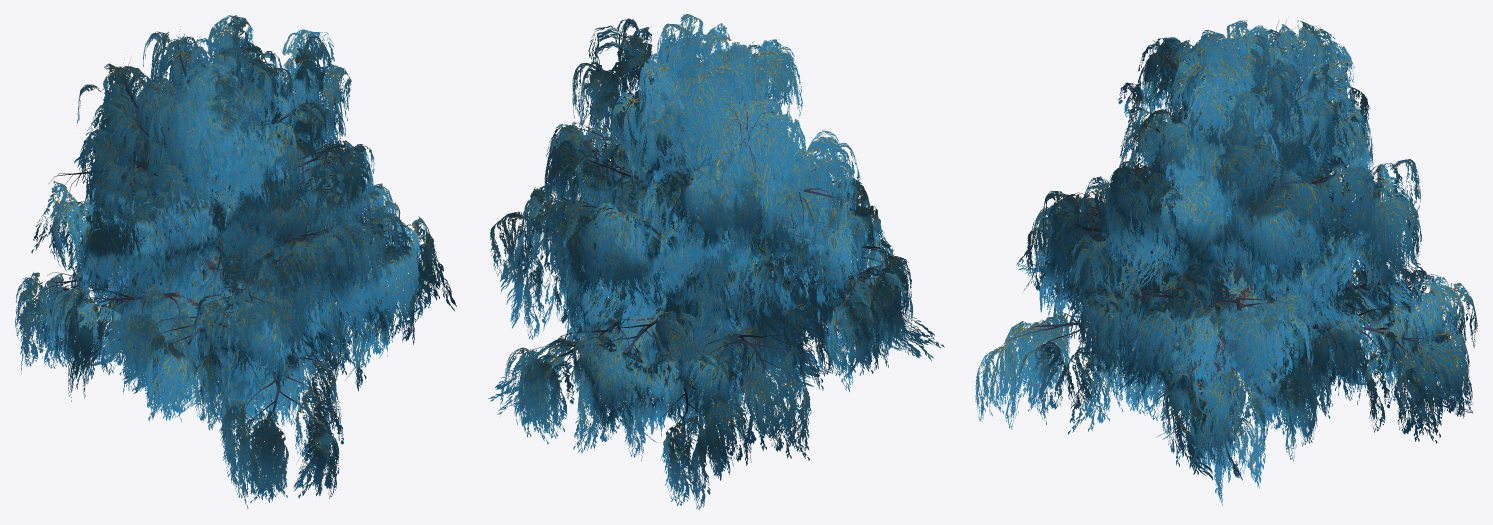
3 renders of one model, left to right at view 1: azimuth 30°, elevation 25°; view 2: azimuth 150°, elevation 25°; view 3: azimuth 270°, elevation 25°, orthographic. The views are drawn at different scales.
Visible parts, largest first — view 1: SM_Willow_03_Canopy_LOD0; view 2: SM_Willow_03_Canopy_LOD0; view 3: SM_Willow_03_Canopy_LOD0.
Part boxes in pixels (<box>): SM_Willow_03_Canopy_LOD0: <box>15,15,456,508</box>; SM_Willow_03_Canopy_LOD0: <box>488,14,944,509</box>; SM_Willow_03_Canopy_LOD0: <box>975,19,1477,505</box>.
Size of the model in its own units: 19.24 by 18.11 by 19.17.
Materials: 1 (1 with a texture image).
